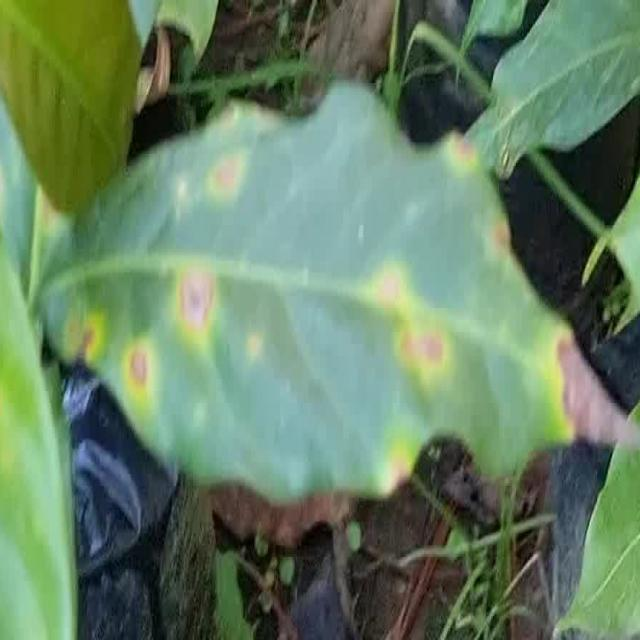leaves: (0, 14, 619, 637)
